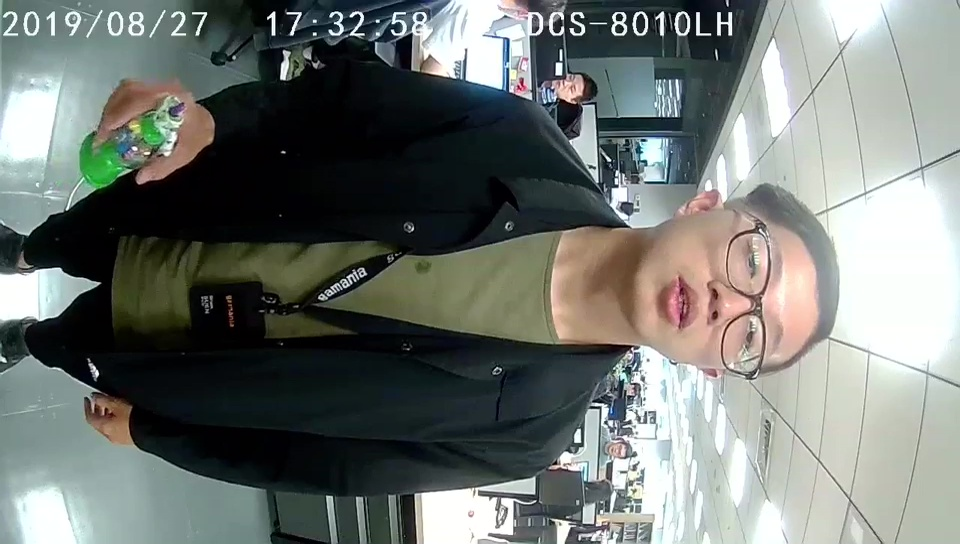buzz: (79, 91, 184, 189)
